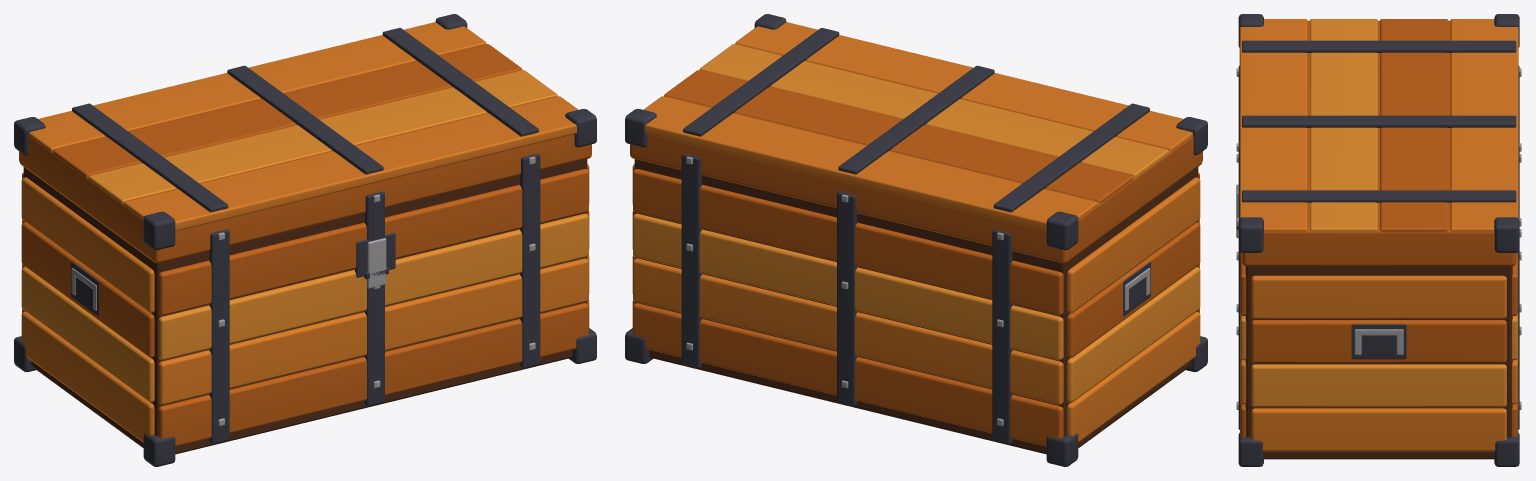
The model's file is chest-large.glb.
The picture shows the model from 3 angles, left to right: view 1: azimuth 30°, elevation 25°; view 2: azimuth 150°, elevation 25°; view 3: azimuth 270°, elevation 25°; orthographic projection.
Parts seen in each view (by area): view 1: front back amber plank, side amber plank, side amber plank.002, level lid strap, dark inner body, silver strap rivet; view 2: front back amber plank, side amber plank, side amber plank.002, level lid strap, dark inner body, silver strap rivet; view 3: side amber plank, front back amber plank, side amber plank.002, level lid strap, dark inner body, silver strap rivet.
Part boxes in pixels (<box>): front back amber plank: <box>19,44,591,446</box>; side amber plank: <box>21,22,589,442</box>; side amber plank.002: <box>21,70,589,402</box>; level lid strap: <box>14,14,596,466</box>; dark inner body: <box>23,159,587,454</box>; silver strap rivet: <box>71,156,535,426</box>; front back amber plank: <box>630,44,1202,446</box>; side amber plank: <box>632,22,1200,442</box>; side amber plank.002: <box>632,44,1200,402</box>; level lid strap: <box>625,14,1207,466</box>; dark inner body: <box>634,159,1198,454</box>; silver strap rivet: <box>686,156,1150,426</box>; side amber plank: <box>1239,19,1518,451</box>; front back amber plank: <box>1240,19,1518,436</box>; side amber plank.002: <box>1240,19,1518,407</box>; level lid strap: <box>1236,14,1519,466</box>; dark inner body: <box>1245,266,1512,459</box>; silver strap rivet: <box>1236,68,1521,409</box>.
Size of the model in its own units: 1.8 by 0.95 by 1.02.
